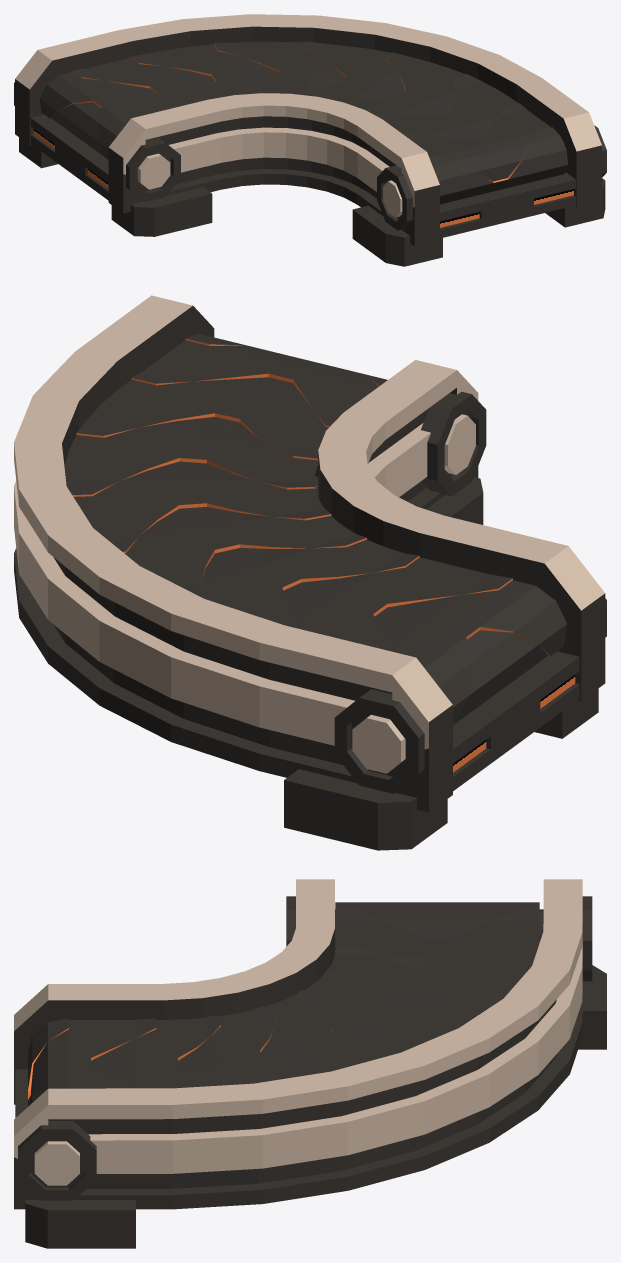
The model's file is Conveyor_R.fbx.
3 views of the same model, one above another, from view 1: azimuth 30°, elevation 25°; view 2: azimuth 150°, elevation 25°; view 3: azimuth 270°, elevation 25° (orthographic). The views are drawn at different scales.
Visible parts, largest first — view 1: Conveyor.R, Belt.R, Light.R; view 2: Conveyor.R, Belt.R; view 3: Conveyor.R, Belt.R.
Boxes of the visible parts, bbox=[...] form: Conveyor.R: bbox=[14, 14, 606, 266]; Belt.R: bbox=[39, 41, 568, 204]; Light.R: bbox=[33, 129, 573, 227]; Conveyor.R: bbox=[14, 295, 606, 850]; Belt.R: bbox=[64, 333, 566, 726]; Conveyor.R: bbox=[14, 879, 606, 1248]; Belt.R: bbox=[28, 902, 539, 1106].
Bounding box in the file's own units: 0.6971 × 0.1732 × 0.6971.
